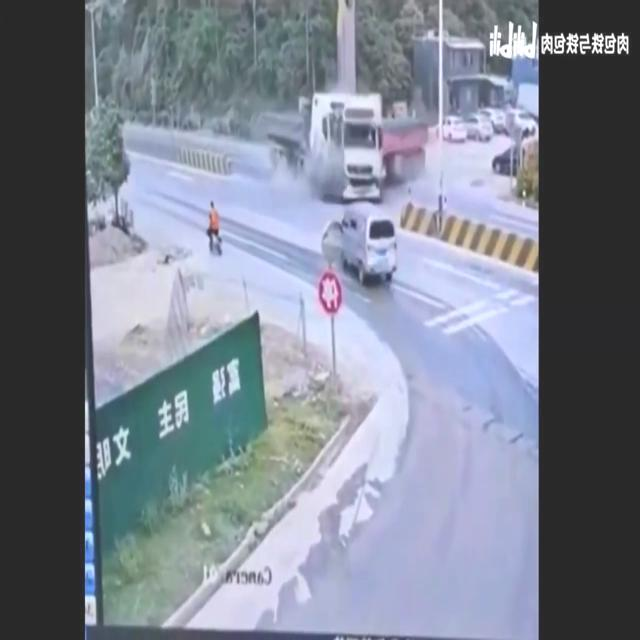accident: (264, 91, 432, 200)
non-accident: (440, 105, 536, 143)
